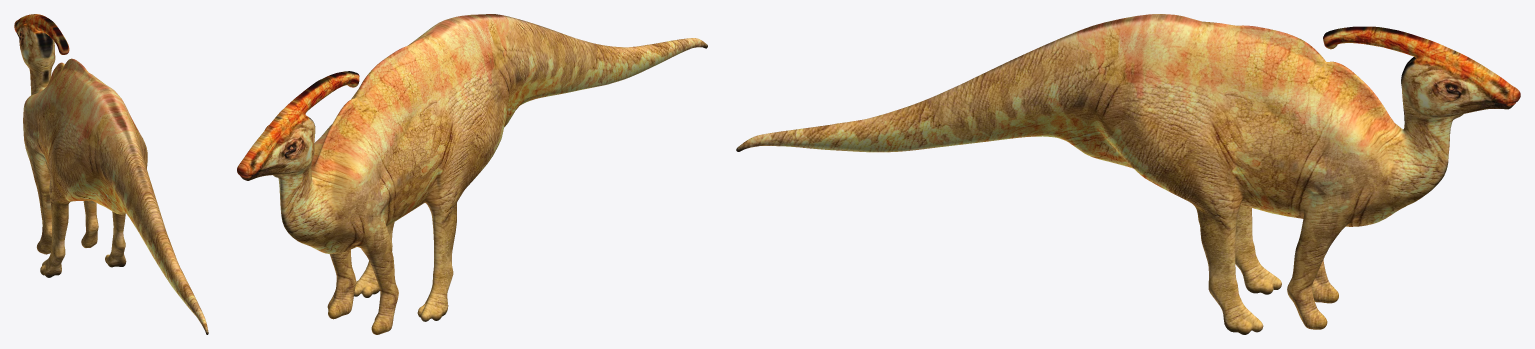
Rendered from parasaurolophus.glb.
3 renders of one model, left to right at view 1: azimuth 30°, elevation 25°; view 2: azimuth 150°, elevation 25°; view 3: azimuth 270°, elevation 25°, orthographic. The views are drawn at different scales.
Visible parts, largest first — view 1: normalize; view 2: normalize; view 3: normalize.
Boxes of the visible parts, x1,y1,x2,y2 form: normalize: [14, 14, 208, 334]; normalize: [237, 14, 707, 334]; normalize: [736, 14, 1520, 334].
Size of the model in its own units: 133 by 259 by 630.
Materials: 1 (1 with a texture image).
